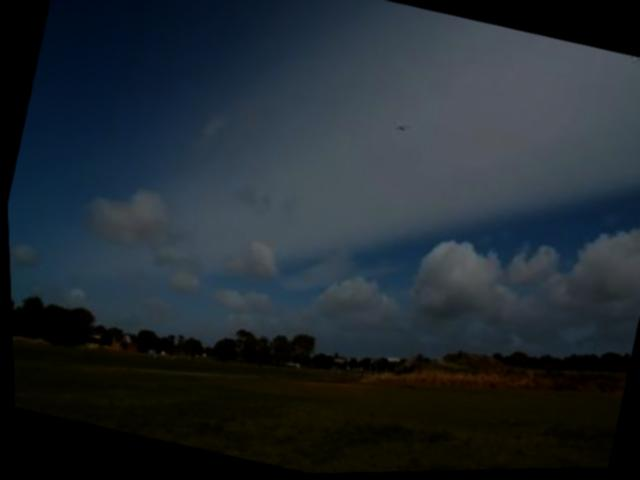uav: (389, 117, 411, 145)
